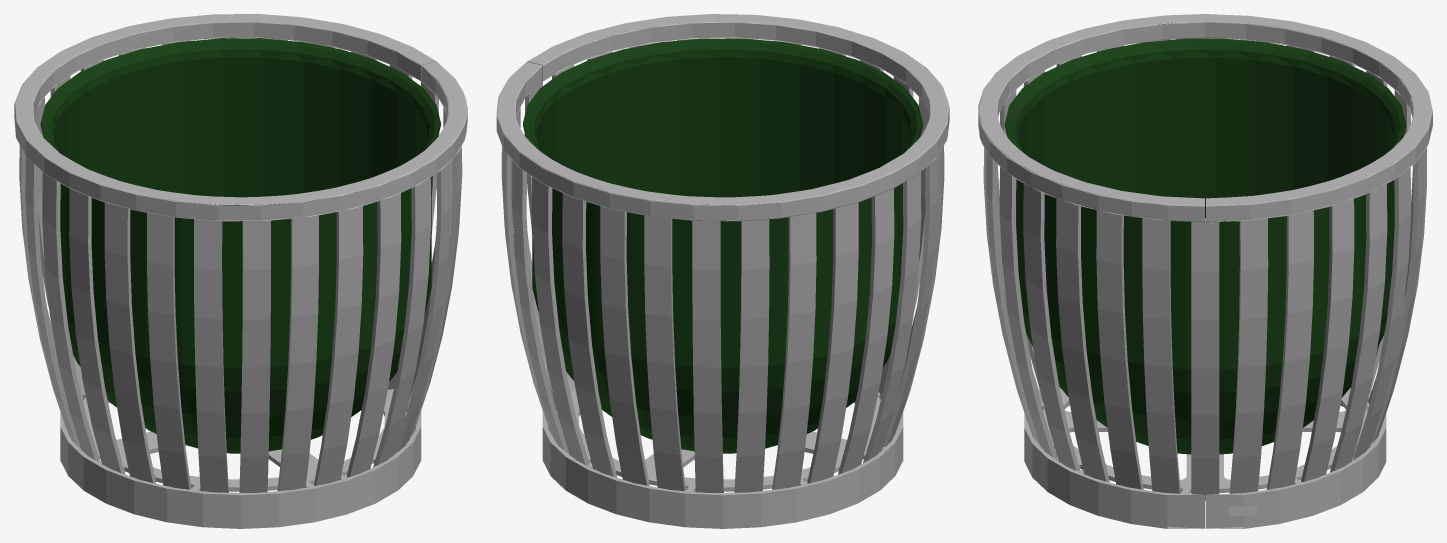
3 renders of one model, left to right at view 1: azimuth 30°, elevation 25°; view 2: azimuth 150°, elevation 25°; view 3: azimuth 270°, elevation 25°, orthographic.
Parts seen in each view (by area): view 1: mesh3.002_mesh3-geometry, mesh9.002_mesh9-geometry, mesh11.002_mesh11-geometry, mesh1.043_mesh1-geometry, mesh1.040_mesh1-geometry, mesh1.052_mesh1-geometry, mesh1.032_mesh1-geometry, mesh1.035_mesh1-geometry, mesh1.055_mesh1-geometry, mesh1.036_mesh1-geometry, mesh1.045_mesh1-geometry, mesh1.037_mesh1-geometry (+8 smaller); view 2: mesh3.002_mesh3-geometry, mesh9.002_mesh9-geometry, mesh11.002_mesh11-geometry, mesh1.039_mesh1-geometry, mesh1.034_mesh1-geometry, mesh1.046_mesh1-geometry, mesh1.041_mesh1-geometry, mesh1.031_mesh1-geometry, mesh1.053_mesh1-geometry, mesh1.049_mesh1-geometry, mesh1.047_mesh1-geometry, mesh1.050_mesh1-geometry (+8 smaller); view 3: mesh3.002_mesh3-geometry, mesh9.002_mesh9-geometry, mesh11.002_mesh11-geometry, mesh1.030_mesh1-geometry, mesh1.044_mesh1-geometry, mesh1.054_mesh1-geometry, mesh1.038_mesh1-geometry, mesh1.048_mesh1-geometry, mesh1.051_mesh1-geometry, mesh1.033_mesh1-geometry, mesh1.029_mesh1-geometry, mesh1.056_mesh1-geometry (+5 smaller).
Boxes of the visible parts, box(x1,y1,x2,y2) form: mesh3.002_mesh3-geometry: box(40, 38, 440, 453); mesh9.002_mesh9-geometry: box(14, 14, 467, 221); mesh11.002_mesh11-geometry: box(60, 398, 421, 528); mesh1.043_mesh1-geometry: box(194, 219, 228, 492); mesh1.040_mesh1-geometry: box(239, 220, 270, 492); mesh1.052_mesh1-geometry: box(277, 215, 318, 491); mesh1.032_mesh1-geometry: box(147, 212, 191, 489); mesh1.035_mesh1-geometry: box(313, 206, 363, 485); mesh1.055_mesh1-geometry: box(104, 202, 156, 483); mesh1.036_mesh1-geometry: box(346, 193, 401, 477); mesh1.045_mesh1-geometry: box(69, 188, 125, 474); mesh1.037_mesh1-geometry: box(373, 177, 431, 467); mesh3.002_mesh3-geometry: box(523, 38, 922, 453); mesh9.002_mesh9-geometry: box(496, 14, 949, 221); mesh11.002_mesh11-geometry: box(542, 392, 903, 528); mesh1.039_mesh1-geometry: box(734, 219, 769, 492); mesh1.034_mesh1-geometry: box(692, 220, 723, 492); mesh1.046_mesh1-geometry: box(644, 215, 685, 491); mesh1.041_mesh1-geometry: box(772, 213, 816, 489); mesh1.031_mesh1-geometry: box(600, 206, 649, 485); mesh1.053_mesh1-geometry: box(807, 202, 858, 483); mesh1.049_mesh1-geometry: box(562, 193, 617, 477); mesh1.047_mesh1-geometry: box(838, 188, 894, 474); mesh1.050_mesh1-geometry: box(532, 177, 589, 465); mesh3.002_mesh3-geometry: box(1004, 38, 1405, 454); mesh9.002_mesh9-geometry: box(978, 14, 1432, 222); mesh11.002_mesh11-geometry: box(1024, 387, 1386, 528); mesh1.030_mesh1-geometry: box(1142, 218, 1180, 493); mesh1.044_mesh1-geometry: box(1191, 218, 1219, 500); mesh1.054_mesh1-geometry: box(1229, 218, 1268, 493); mesh1.038_mesh1-geometry: box(1096, 210, 1143, 489); mesh1.048_mesh1-geometry: box(1266, 210, 1313, 489); mesh1.051_mesh1-geometry: box(1301, 198, 1354, 482); mesh1.033_mesh1-geometry: box(1056, 198, 1109, 482); mesh1.029_mesh1-geometry: box(1023, 183, 1079, 471); mesh1.056_mesh1-geometry: box(1330, 184, 1387, 472).
Size of the model in its own units: 0.609 by 0.5083 by 0.6089.
